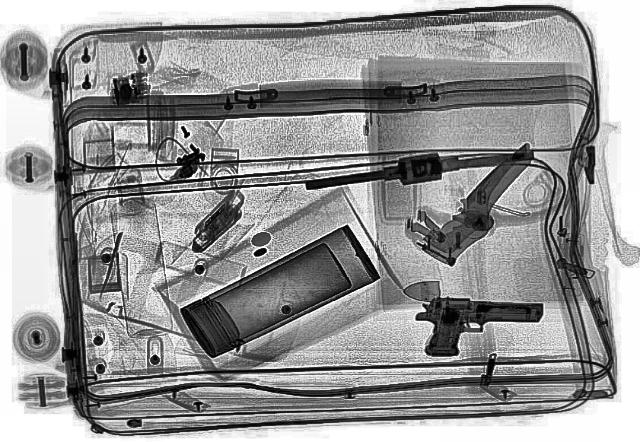Gun: (411, 296, 543, 360)
